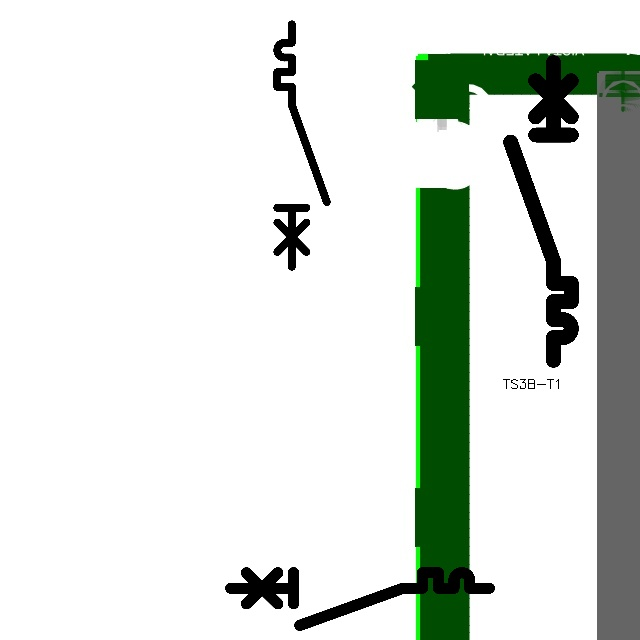interruptor_termomagnetico: (503, 55, 579, 368), (224, 566, 496, 632), (271, 18, 333, 273)
